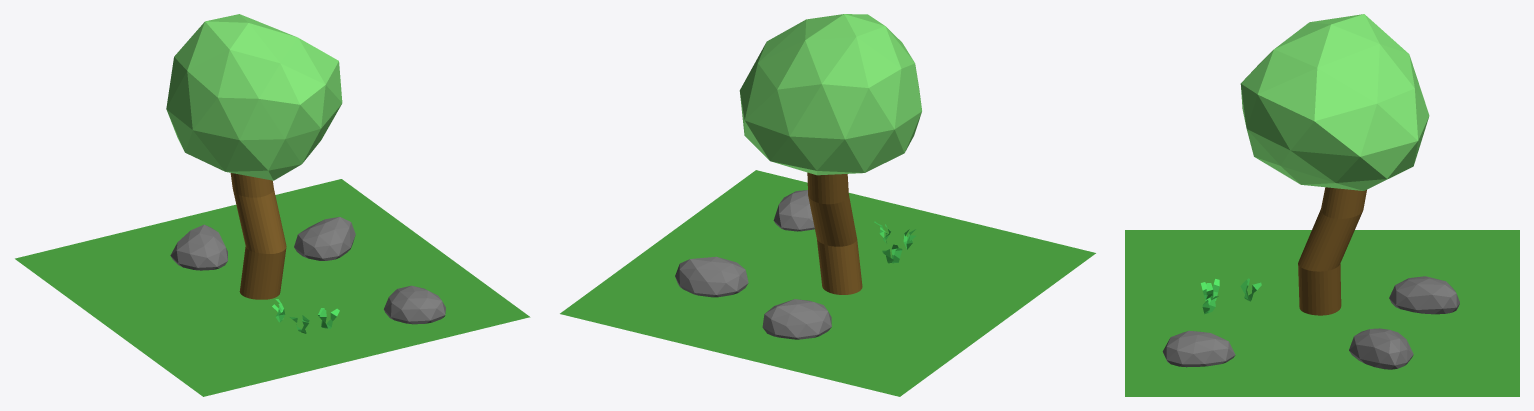
The model's file is Tree.glb.
3 renders of one model, left to right at view 1: azimuth 30°, elevation 25°; view 2: azimuth 150°, elevation 25°; view 3: azimuth 270°, elevation 25°, orthographic. The views are drawn at different scales.
Visible parts, largest first — view 1: Plane, Icosphere, Cylinder, Icosphere.002, Icosphere.003, Icosphere.001; view 2: Plane, Icosphere, Cylinder, Icosphere.002, Icosphere.003, Icosphere.001; view 3: Plane, Icosphere, Cylinder, Icosphere.003, Icosphere.001, Icosphere.002.
Part boxes in pixels (box(x1,y1,x2,y2)): Plane: box(15, 179, 530, 396); Icosphere: box(166, 14, 342, 180); Cylinder: box(230, 173, 286, 299); Icosphere.002: box(294, 217, 355, 260); Icosphere.003: box(170, 224, 227, 270); Icosphere.001: box(384, 285, 445, 324); Plane: box(560, 170, 1095, 396); Icosphere: box(739, 14, 921, 175); Cylinder: box(807, 172, 862, 294); Icosphere.002: box(675, 256, 748, 297); Icosphere.003: box(762, 299, 831, 339); Icosphere.001: box(773, 190, 814, 231); Plane: box(1125, 230, 1519, 396); Icosphere: box(1240, 14, 1429, 190); Cylinder: box(1298, 187, 1366, 315); Icosphere.003: box(1389, 276, 1459, 314); Icosphere.001: box(1162, 330, 1235, 367); Icosphere.002: box(1349, 328, 1413, 369).
Size of the model in its own units: 2 by 1.62 by 2.
